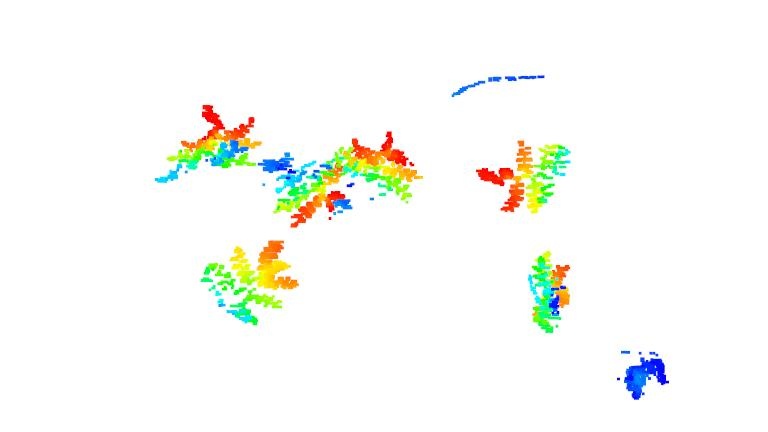chickpea: (200, 235, 302, 329), (152, 100, 259, 186), (475, 138, 574, 217), (261, 150, 352, 229), (343, 128, 425, 206), (526, 251, 574, 337)
